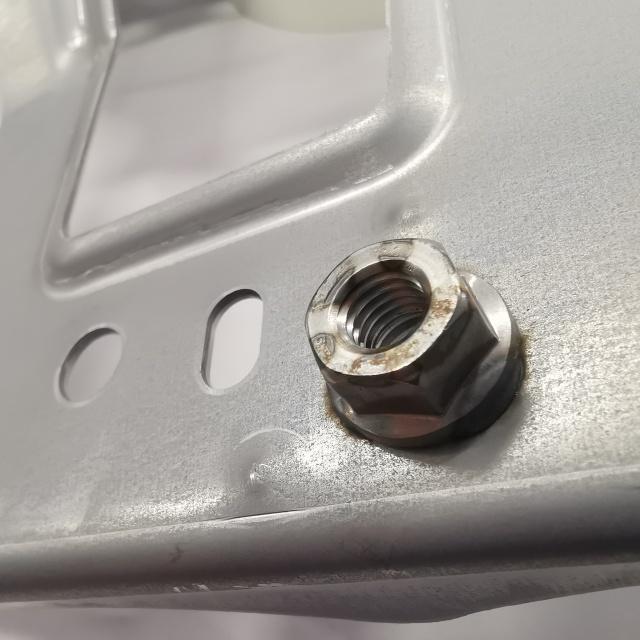dog: (298, 232, 535, 456)
